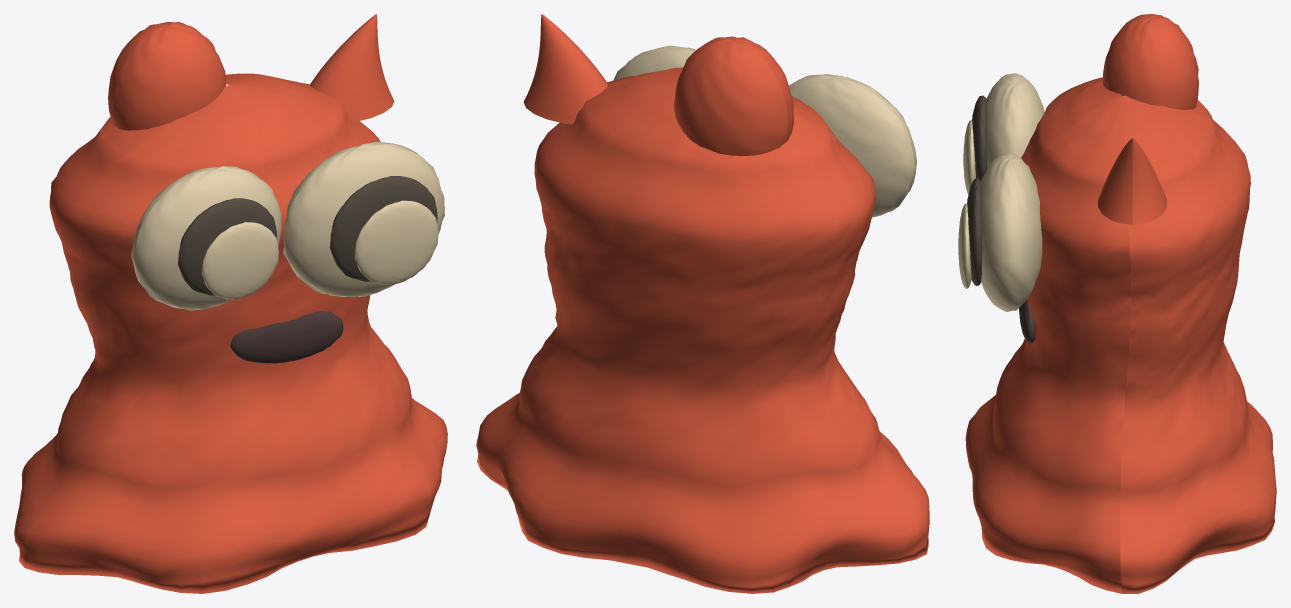
File: ember-reference-v003.glb
3 renders of one model, left to right at view 1: azimuth 30°, elevation 25°; view 2: azimuth 150°, elevation 25°; view 3: azimuth 270°, elevation 25°, orthographic. The views are drawn at different scales.
Visible parts, largest first — view 1: Single sculpted body with puddled scallop hem, Hand pressed oversized cream eye (×2), Uneven clay button iris (×2), Rounded clay head bump, Dark recessed eye rim (×2), Small pointed side horn, Lopsided impish grin; view 2: Single sculpted body with puddled scallop hem, Rounded clay head bump, Hand pressed oversized cream eye (×2), Small pointed side horn; view 3: Single sculpted body with puddled scallop hem, Hand pressed oversized cream eye (×2), Rounded clay head bump, Small pointed side horn, Dark recessed eye rim (×2), Uneven clay button iris (×2), Lopsided impish grin.
Boxes of the visible parts, x1=… form: Single sculpted body with puddled scallop hem: x1=14, y1=73, x2=447, y2=593; Hand pressed oversized cream eye (×2): x1=131, y1=141, x2=444, y2=310; Uneven clay button iris (×2): x1=202, y1=200, x2=438, y2=299; Rounded clay head bump: x1=108, y1=22, x2=226, y2=130; Dark recessed eye rim (×2): x1=178, y1=176, x2=437, y2=295; Small pointed side horn: x1=310, y1=14, x2=394, y2=122; Lopsided impish grin: x1=230, y1=310, x2=343, y2=363; Single sculpted body with puddled scallop hem: x1=476, y1=67, x2=929, y2=593; Rounded clay head bump: x1=674, y1=36, x2=793, y2=156; Hand pressed oversized cream eye (×2): x1=613, y1=45, x2=916, y2=217; Small pointed side horn: x1=523, y1=14, x2=607, y2=124; Single sculpted body with puddled scallop hem: x1=965, y1=77, x2=1276, y2=593; Hand pressed oversized cream eye (×2): x1=981, y1=73, x2=1044, y2=311; Rounded clay head bump: x1=1102, y1=14, x2=1198, y2=109; Small pointed side horn: x1=1098, y1=138, x2=1166, y2=224; Dark recessed eye rim (×2): x1=967, y1=95, x2=987, y2=285; Uneven clay button iris (×2): x1=958, y1=120, x2=975, y2=288; Lopsided impish grin: x1=1019, y1=299, x2=1035, y2=343.
Bounding box in the file's own units: 1.02 × 1.1 × 0.693.
